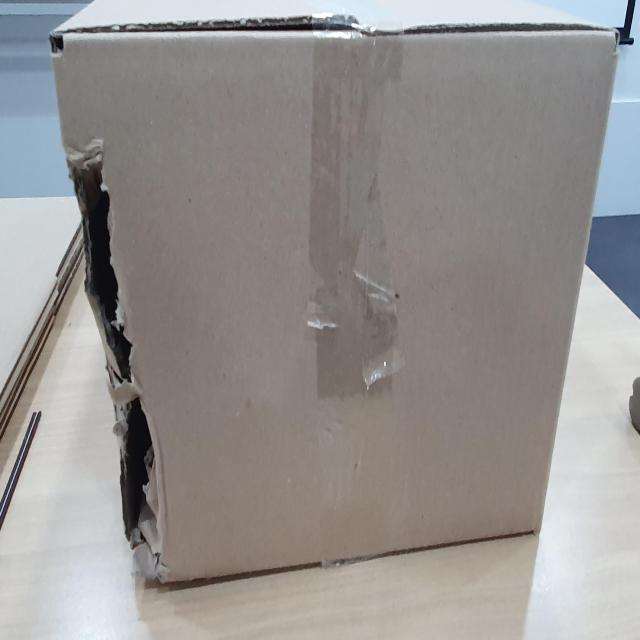damaged: (73, 160, 163, 546)
